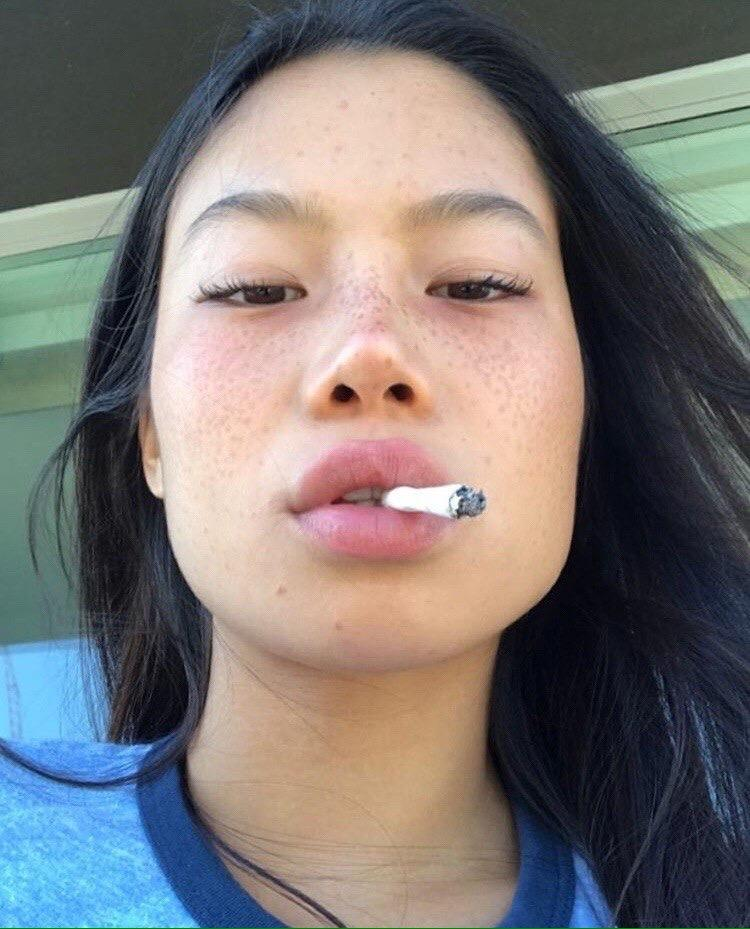cigarette: (380, 485, 485, 517)
